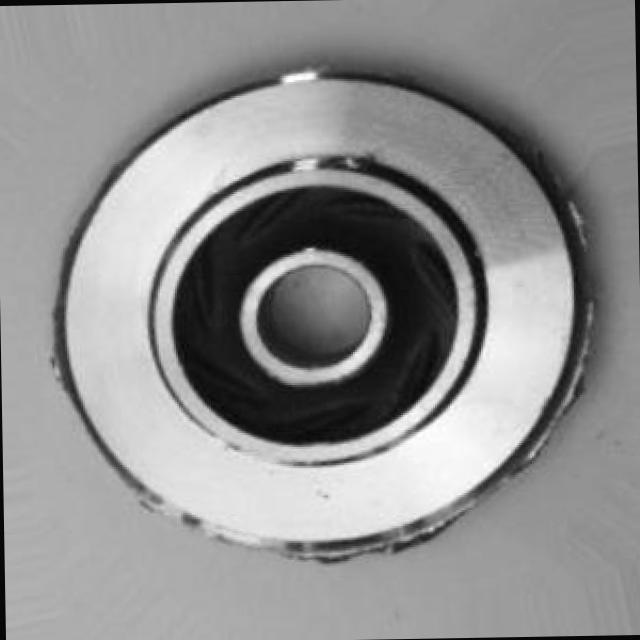Defect: (300, 476, 358, 514)
